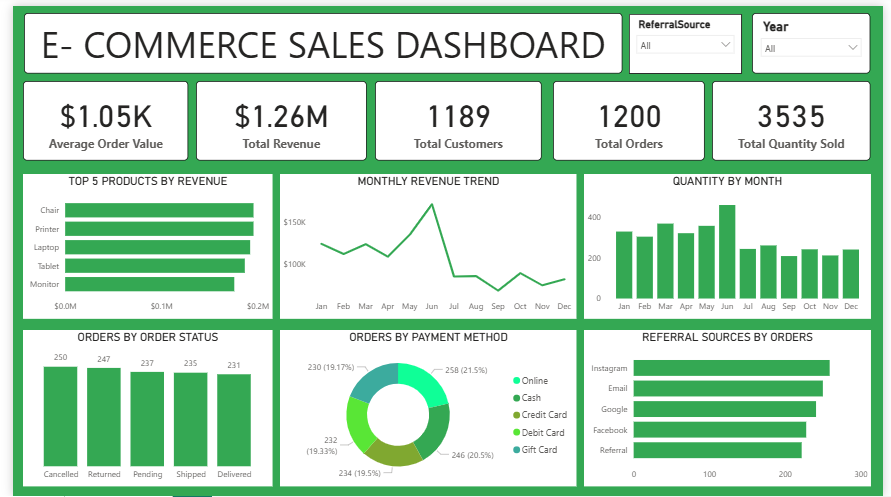

Layout of this report page (visuals, bound fields, positions):
{"tool":"powerbi","page":{"name":"Dashboard","canvas":[1280,720],"ordinal":0},"visuals":[{"type":"card","fields":{"Values":["Cleaned Data Set.Total Orders"]},"box":[793.4,110.9,223.2,116.6],"z":0},{"type":"card","fields":{"Values":["Cleaned Data Set.Total Revenue"]},"box":[269.3,110.9,250.6,116.6],"z":1000},{"type":"card","fields":{"Values":["Cleaned Data Set.Total Customers"]},"box":[532.8,110.9,244.8,116.6],"z":2000},{"type":"card","fields":{"Values":["Cleaned Data Set.Total Quantity Sold"]},"box":[1028.2,110.9,233.3,116.6],"z":3000},{"type":"card","fields":{"Values":["Cleaned Data Set.Average Order Value"]},"box":[14.4,110.9,243.4,116.6],"z":4000},{"type":"textbox","box":[15.8,10.1,879.8,89.3],"z":5000},{"type":"slicer","fields":{"Values":["Date Table.Date.Variation.Date Hierarchy.Year"]},"box":[1087.2,10.1,174.2,89.3],"z":6000},{"type":"slicer","fields":{"Values":["Cleaned Data Set.ReferralSource"]},"box":[905.9,11.8,166.2,88.2],"z":7000},{"type":"barChart","title":"TOP 5 PRODUCTS BY REVENUE ","fields":{"Category":["Cleaned Data Set.Product"],"Y":["Cleaned Data Set.Total Revenue"]},"box":[14.4,247.7,367.2,213.1],"z":8000},{"type":"columnChart","title":"QUANTITY BY MONTH","fields":{"Y":["Sum(Cleaned Data Set.Quantity)"],"Category":["Date Table.Month"]},"box":[839.5,247.7,421.9,213.1],"z":9000},{"type":"columnChart","title":"ORDERS BY ORDER STATUS","fields":{"Category":["Cleaned Data Set.OrderStatus"],"Y":["Cleaned Data Set.Total Orders"]},"box":[14.4,476.6,367.2,230.4],"z":10000},{"type":"donutChart","title":"ORDERS BY PAYMENT METHOD","fields":{"Category":["Cleaned Data Set.PaymentMethod"],"Y":["Cleaned Data Set.Total Orders"]},"box":[393.1,476.6,436.3,230.4],"z":11000},{"type":"lineChart","title":"MONTHLY REVENUE TREND","fields":{"Category":["Date Table.Month"],"Y":["Cleaned Data Set.Total Revenue"]},"box":[393.1,247.7,436.3,213.1],"z":12000},{"type":"clusteredBarChart","title":"REFERRAL SOURCES BY ORDERS","fields":{"Category":["Cleaned Data Set.ReferralSource"],"Y":["Cleaned Data Set.Total Orders"]},"box":[839.5,476.6,421.9,230.4],"z":13000}]}

Visuals, with their boxes in screenshot pixels (x1, y1, x2, y2), scaled from the page's 1280x720 canvas onto the 891x497 screenshot:
card - Cleaned Data Set.Total Orders: bbox=(552, 77, 708, 157)
card - Cleaned Data Set.Total Revenue: bbox=(187, 77, 362, 157)
card - Cleaned Data Set.Total Customers: bbox=(371, 77, 541, 157)
card - Cleaned Data Set.Total Quantity Sold: bbox=(716, 77, 878, 157)
card - Cleaned Data Set.Average Order Value: bbox=(10, 77, 179, 157)
textbox: bbox=(11, 7, 623, 69)
slicer - Date Table.Date.Variation.Date Hierarchy.Year: bbox=(757, 7, 878, 69)
slicer - Cleaned Data Set.ReferralSource: bbox=(631, 8, 746, 69)
"TOP 5 PRODUCTS BY REVENUE " barChart: bbox=(10, 171, 266, 318)
"QUANTITY BY MONTH" columnChart: bbox=(584, 171, 878, 318)
"ORDERS BY ORDER STATUS" columnChart: bbox=(10, 329, 266, 488)
"ORDERS BY PAYMENT METHOD" donutChart: bbox=(274, 329, 577, 488)
"MONTHLY REVENUE TREND" lineChart: bbox=(274, 171, 577, 318)
"REFERRAL SOURCES BY ORDERS" clusteredBarChart: bbox=(584, 329, 878, 488)
